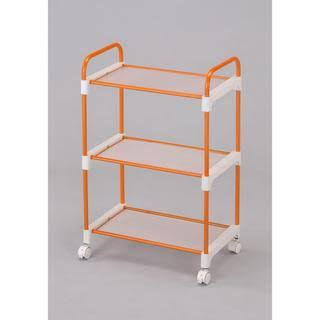Carts: (77, 42, 242, 286)
